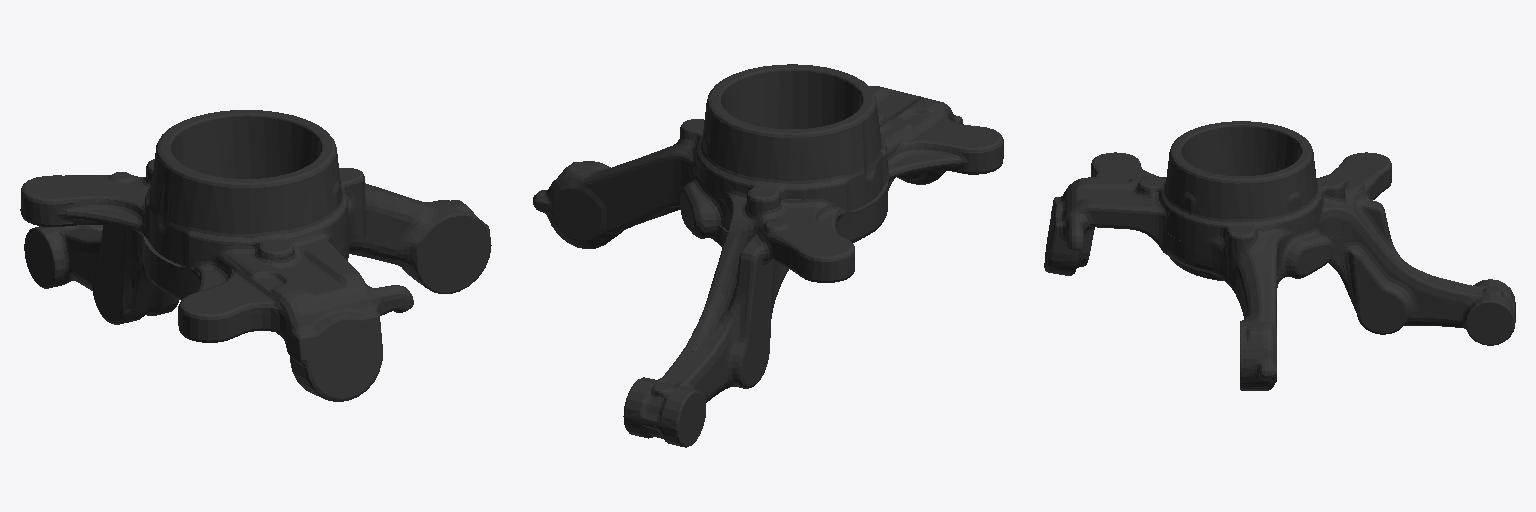
URDF robot description (knuckle):
<?xml version="1.0" ?>

<robot name="knuckle">
  <link name="knuckle_link">

    <inertial>
      <origin xyz="0.002921 0.009235 -0.028423" rpy="0 0 0" />
      <!--mass value="3."/-->
      <mass value="0.488"/>
      <!--inertia ixx="0.2044520160" ixy="0.0007975608" ixz="0.0065516653"
               iyy="0.1079389849" iyz="0.0374371044" izz="0.2495596983"/-->
      <inertia ixx="0.002044520160" ixy="0.000007975608" ixz="0.000065516653"
               iyy="0.001079389849" iyz="0.000374371044" izz="0.002495596983"/>
    </inertial>

    <visual>
      <origin rpy="0 0 0" xyz="0 0 0"/>
      <geometry>
        <mesh filename="../meshes/knuckle/knuckle.stl" scale=".001 .001 .001"/>
      </geometry>
      <material name="black">
        <color rgba="0.25 0.25 0.25 1"/>
      </material>
    </visual>

    <collision>
      <origin rpy="0 0 0" xyz="0 0 0"/>
      <geometry>
        <mesh filename="../meshes/knuckle/knuckle.stl" scale=".001 .001 .001"/>
      </geometry>
    </collision>

  </link>
</robot>

--- Render facts (derived) ---
The picture shows the robot from 3 angles, left to right: view 1: azimuth 30°, elevation 25°; view 2: azimuth 150°, elevation 25°; view 3: azimuth 270°, elevation 25°; orthographic projection.
Robot: knuckle — 1 links, 0 joints (none); root link knuckle_link; default pose: all joints at 0.
Links seen in each view (by area): view 1: knuckle_link; view 2: knuckle_link; view 3: knuckle_link.
Boxes of the visible links, x1=… form: knuckle_link: x1=20, y1=110, x2=491, y2=401; knuckle_link: x1=533, y1=64, x2=1003, y2=447; knuckle_link: x1=1044, y1=121, x2=1515, y2=390.
Size in the robot's own frame: 0.2049 by 0.2625 by 0.1189 metres.
1 mesh visuals loaded from 1 distinct referenced files (1 ASCII STL).
